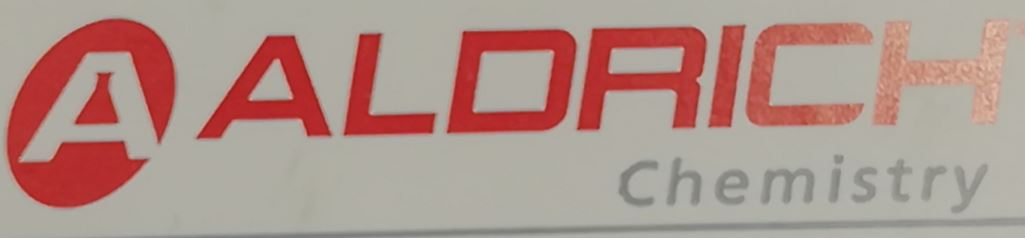SigmaAldrich: (3, 16, 1025, 220)
